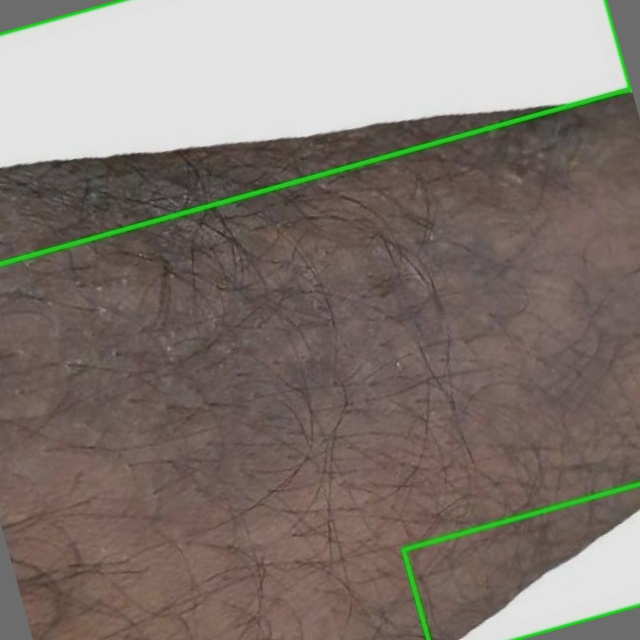Contact Dermatitis: (0, 0, 631, 265), (402, 484, 639, 639)
